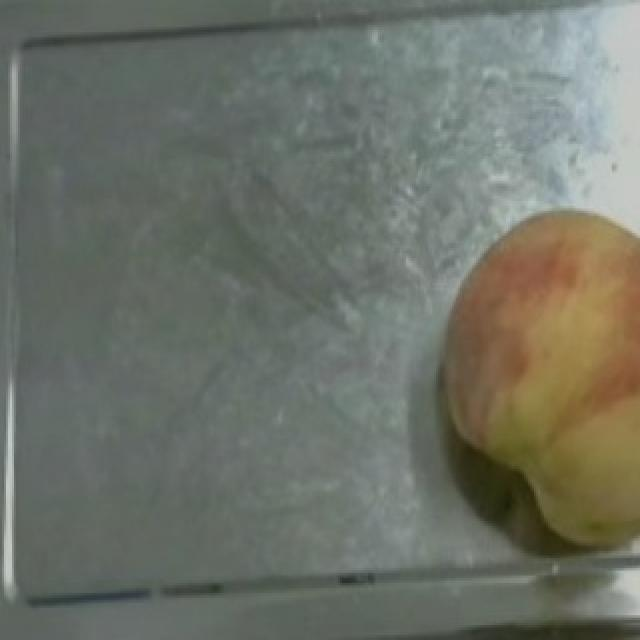Fruit: (418, 188, 640, 524)
